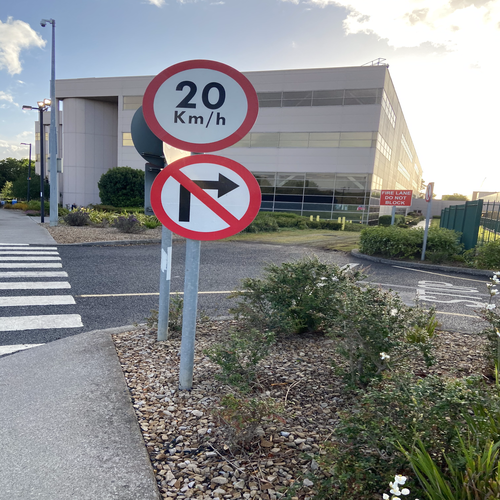No Turn: (153, 155, 263, 238)
Speed Limit: (146, 58, 259, 150)
Zebra Crossing: (1, 245, 80, 332)
